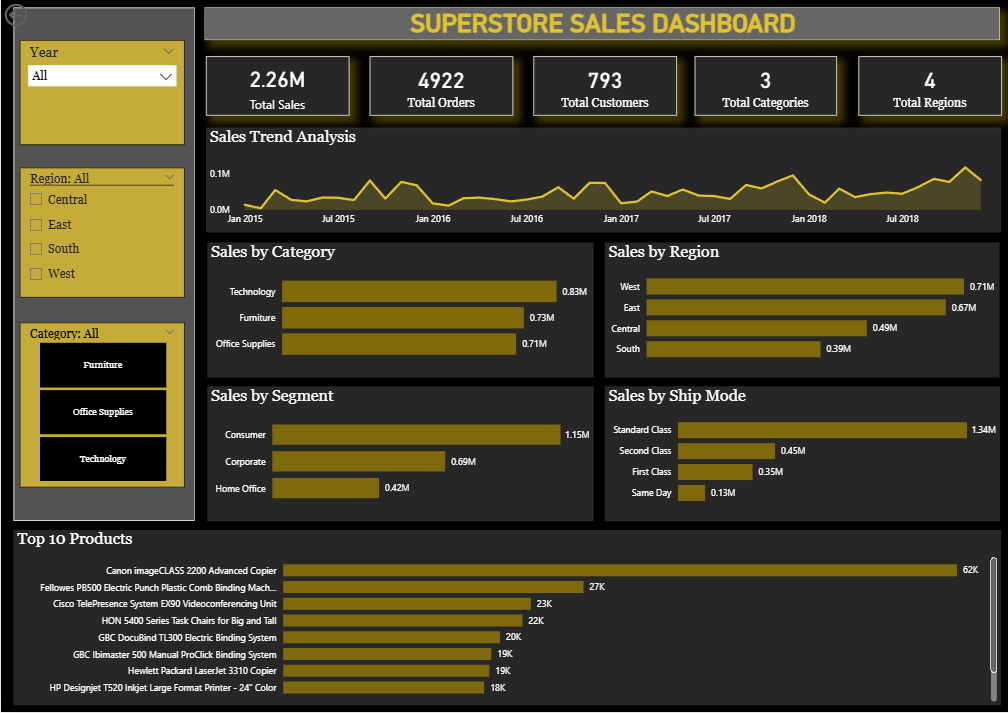

Layout of this report page (visuals, bound fields, positions):
{"tool":"powerbi","page":{"name":"Page 1","canvas":[1350,950],"ordinal":0},"visuals":[{"type":"textbox","title":"SUPERSTORE SALES DASHBOARD","box":[272.2,9.6,1060.2,43],"z":0},{"type":"shape","box":[15.9,9.6,242,684.5],"z":1000},{"type":"card","fields":{"Values":["Sum(train.Sales)"]},"box":[273.8,74.8,191,79.6],"z":2000},{"type":"card","fields":{"Values":["Count(train.Order ID)"]},"box":[491.9,74.8,191,79.6],"z":3000},{"type":"card","fields":{"Values":["Count(train.Customer ID)"]},"box":[710,74.8,191,79.6],"z":4000},{"type":"card","fields":{"Values":["Count(train.Category)"]},"box":[924.9,74.8,189.4,79.6],"z":5000},{"type":"card","fields":{"Values":["Count(train.Region)"]},"box":[1142.9,74.8,191,79.6],"z":6000},{"type":"stackedAreaChart","title":"Sales Trend Analysis","fields":{"Y":["Sum(train.sales)"],"Category":["train.Order Date.Variation.Date Hierarchy.Year","train.Order Date.Variation.Date Hierarchy.Month"]},"box":[273.8,170.3,1060.2,140.1],"z":7000},{"type":"clusteredBarChart","title":"Sales by Category","fields":{"Category":["train.Category"],"Y":["Sum(train.sales)"]},"box":[275.4,323.1,515,180],"z":8000},{"type":"clusteredBarChart","title":"Sales by Region","fields":{"Category":["train.Region"],"Y":["Sum(train.sales)"]},"box":[805.5,323.1,526,180],"z":9000},{"type":"clusteredBarChart","title":"Sales by Segment","fields":{"Y":["Sum(train.sales)"],"Category":["train.Segment"]},"box":[275.4,515.8,515,180],"z":10000},{"type":"clusteredBarChart","title":"Sales by Ship Mode","fields":{"Category":["train.Ship Mode"],"Y":["Sum(train.sales)"]},"box":[805.5,515.8,526.9,180],"z":11000},{"type":"clusteredBarChart","title":"Top 10 Products","fields":{"Category":["train.Product Name"],"Y":["Sum(train.sales)"]},"box":[15.9,706.8,1316.4,234],"z":12000},{"type":"actionButton","box":[0,0,100,40],"z":13000},{"type":"slicer","fields":{"Values":["train.Region"]},"box":[25.5,222.9,219.7,173.5],"z":14000},{"type":"slicer","fields":{"Values":["train.Category"]},"box":[25.5,429.8,219.7,219.7],"z":15000},{"type":"slicer","fields":{"Values":["train.Year"]},"box":[25.5,52.5,219.7,140.1],"z":16000}]}

Visuals, with their boxes in screenshot pixels (x1, y1, x2, y2), scaled from the page's 1350x950 canvas onto the 1008x713 screenshot:
"SUPERSTORE SALES DASHBOARD" textbox: pyautogui.locateOnScreen(203, 7, 995, 39)
shape: pyautogui.locateOnScreen(12, 7, 193, 521)
card - Sum(train.Sales): pyautogui.locateOnScreen(204, 56, 347, 116)
card - Count(train.Order ID): pyautogui.locateOnScreen(367, 56, 510, 116)
card - Count(train.Customer ID): pyautogui.locateOnScreen(530, 56, 673, 116)
card - Count(train.Category): pyautogui.locateOnScreen(691, 56, 832, 116)
card - Count(train.Region): pyautogui.locateOnScreen(853, 56, 996, 116)
"Sales Trend Analysis" stackedAreaChart: pyautogui.locateOnScreen(204, 128, 996, 233)
"Sales by Category" clusteredBarChart: pyautogui.locateOnScreen(206, 242, 590, 378)
"Sales by Region" clusteredBarChart: pyautogui.locateOnScreen(601, 242, 994, 378)
"Sales by Segment" clusteredBarChart: pyautogui.locateOnScreen(206, 387, 590, 522)
"Sales by Ship Mode" clusteredBarChart: pyautogui.locateOnScreen(601, 387, 995, 522)
"Top 10 Products" clusteredBarChart: pyautogui.locateOnScreen(12, 530, 995, 706)
actionButton: pyautogui.locateOnScreen(0, 0, 75, 30)
slicer - train.Region: pyautogui.locateOnScreen(19, 167, 183, 298)
slicer - train.Category: pyautogui.locateOnScreen(19, 323, 183, 487)
slicer - train.Year: pyautogui.locateOnScreen(19, 39, 183, 145)
